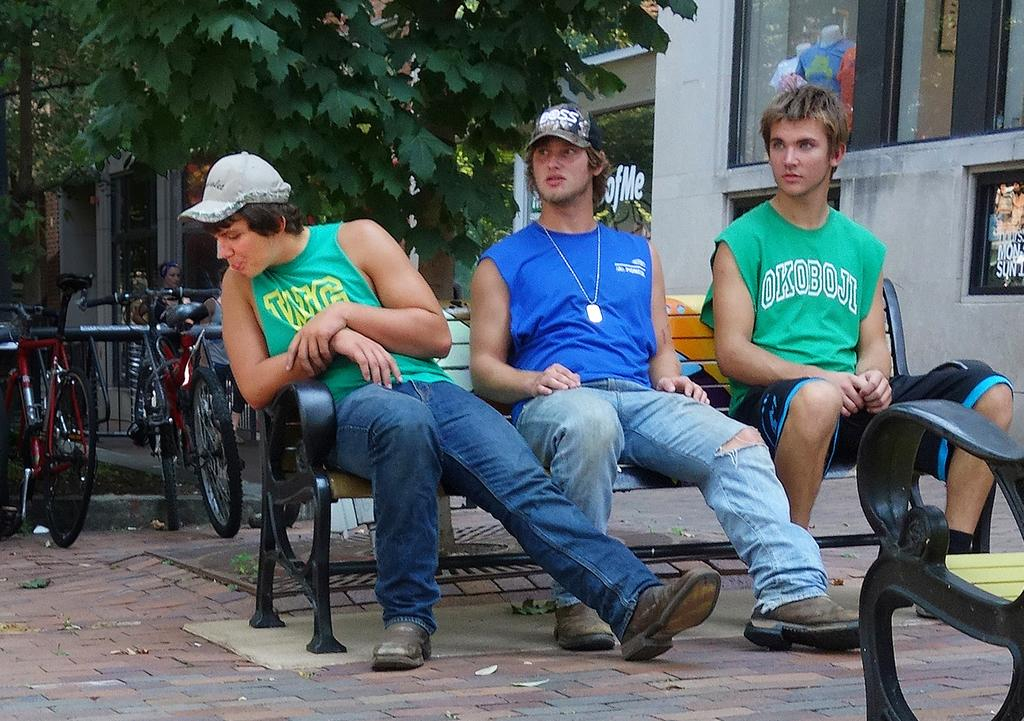Hat: (180, 151, 289, 225), (523, 99, 592, 149)
